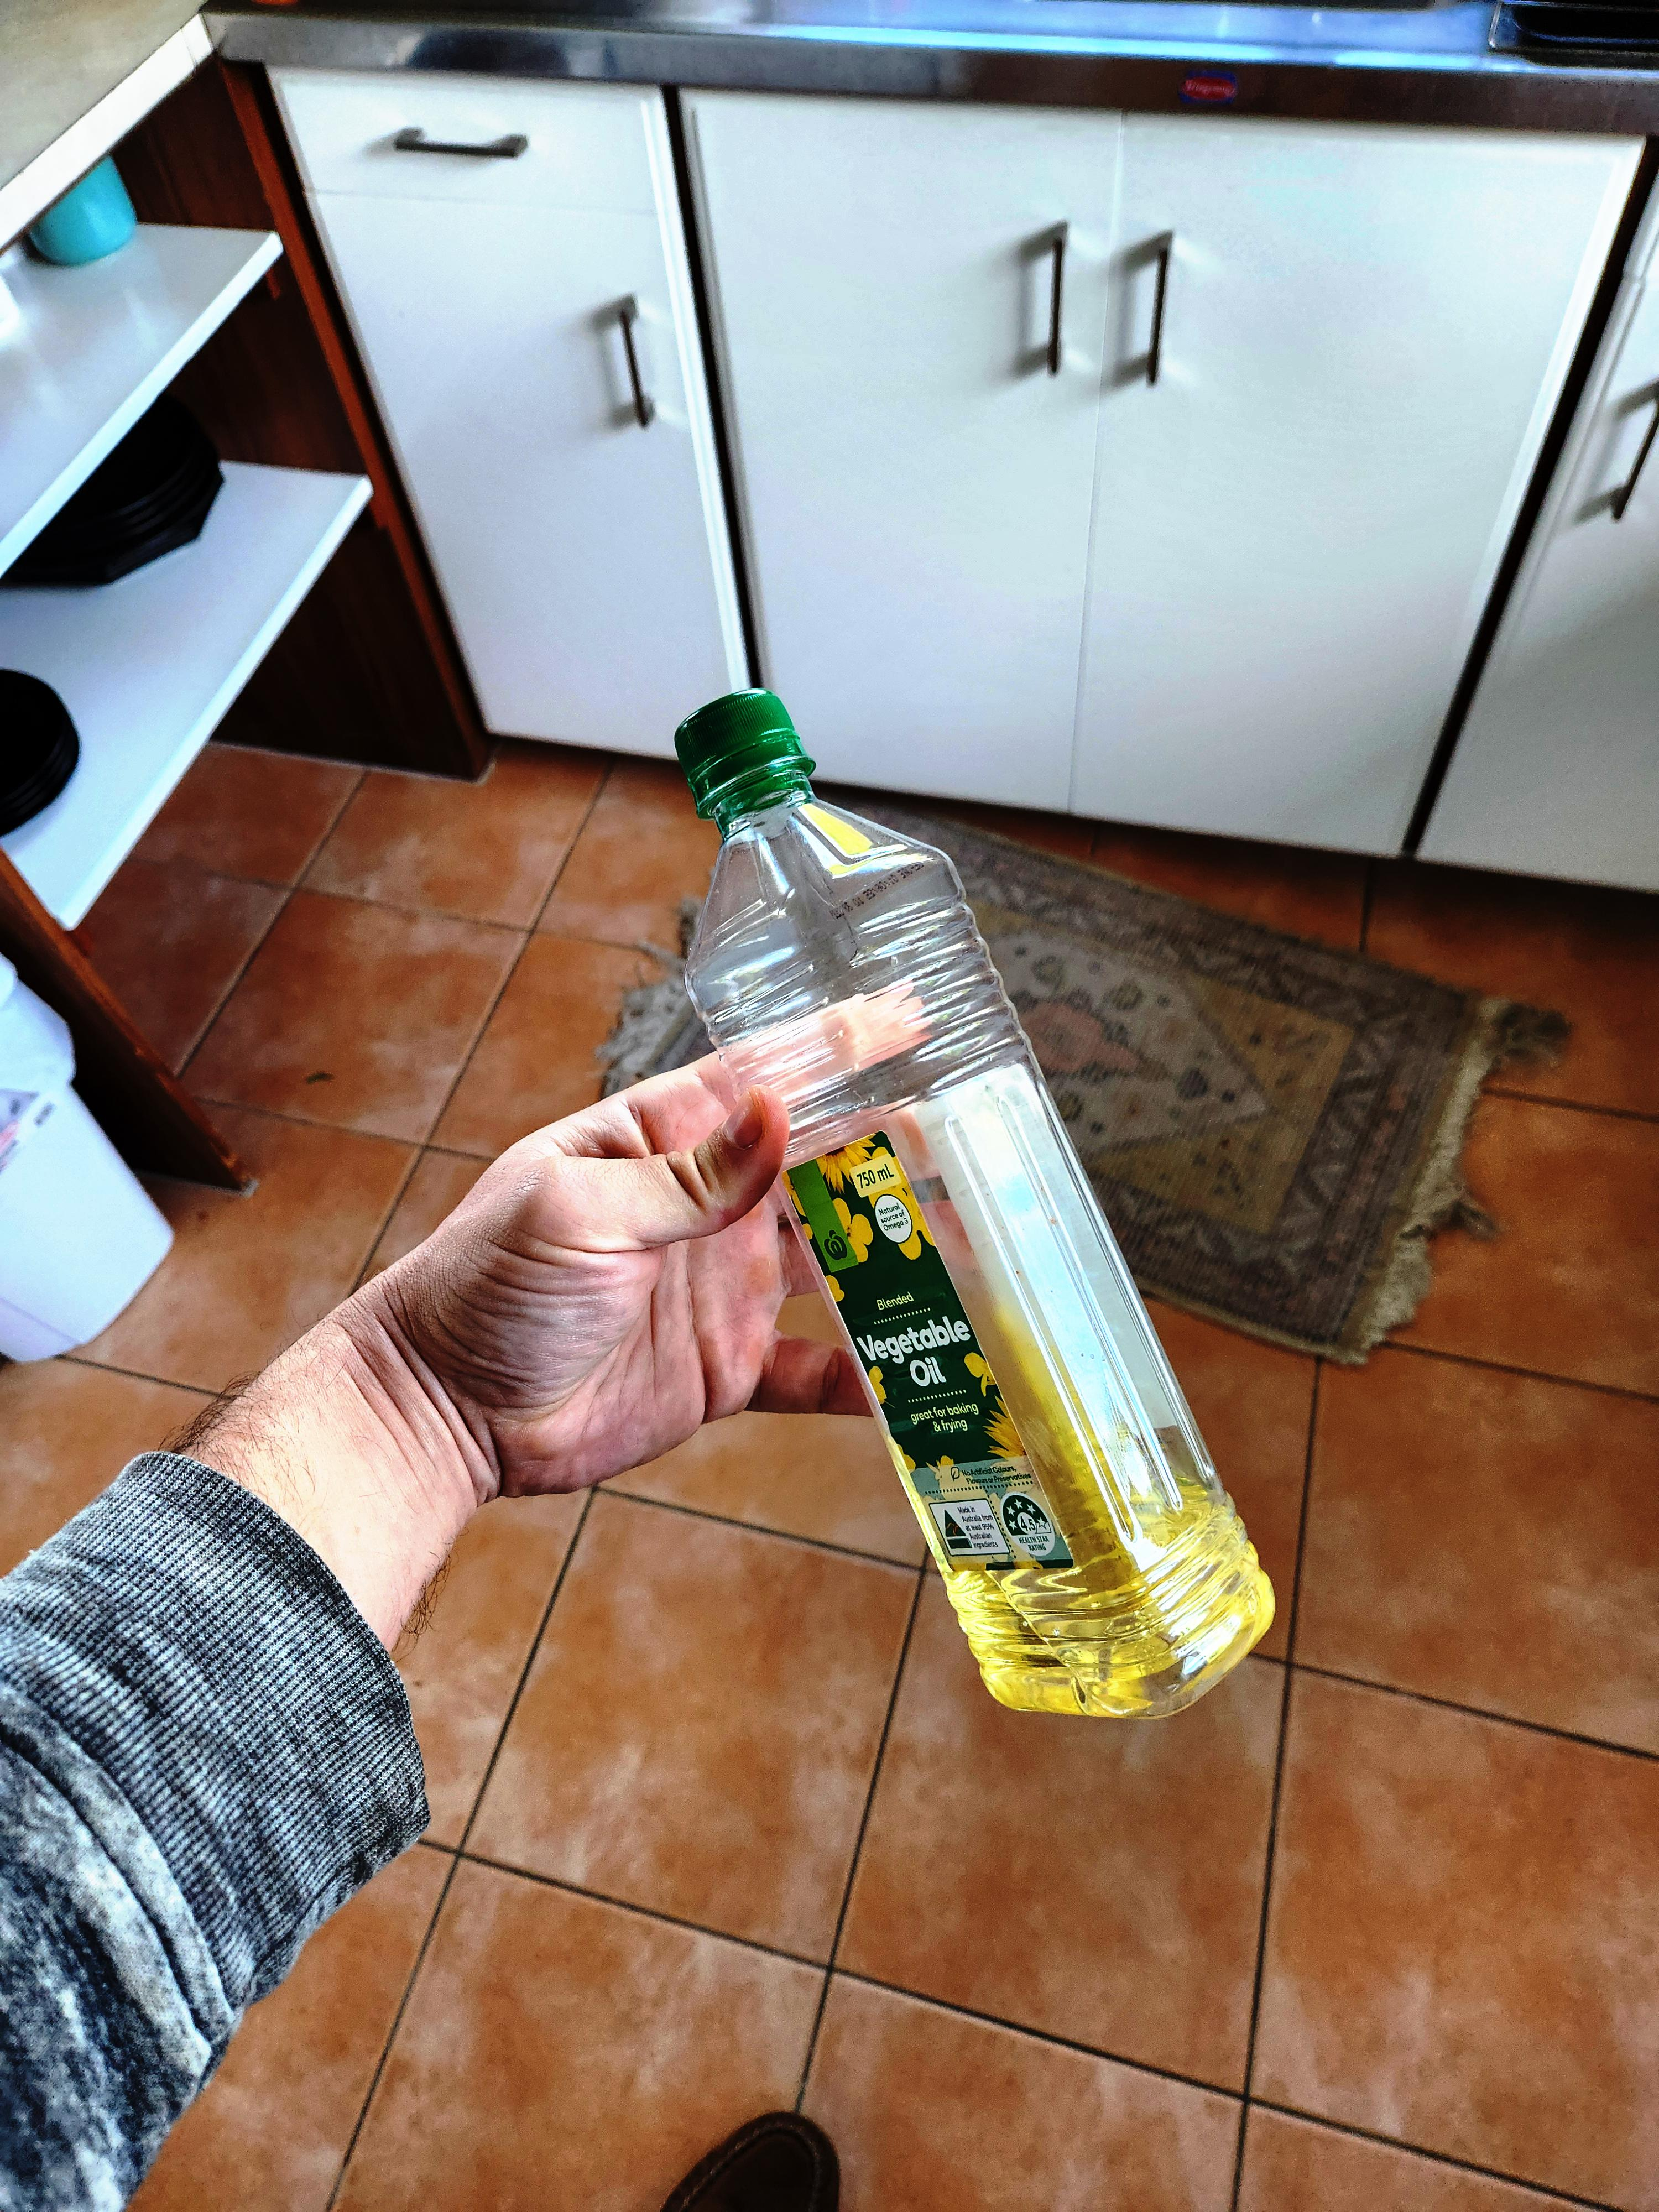vegetable oil: (505, 914, 958, 2212)
